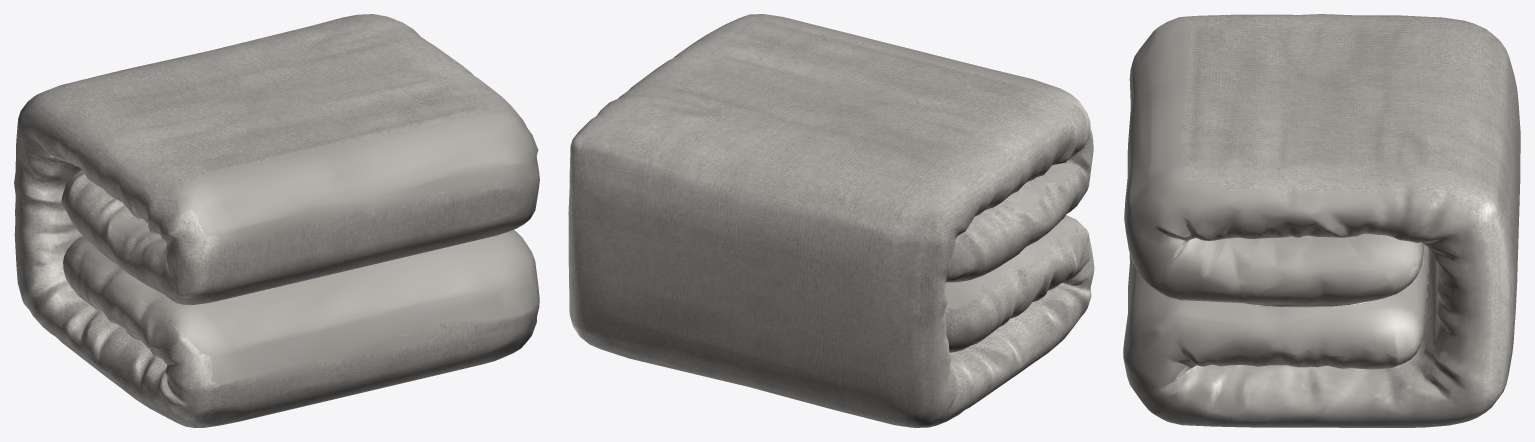
Rendered from raw_model.obj.
The picture shows the model from 3 angles, left to right: view 1: azimuth 30°, elevation 25°; view 2: azimuth 150°, elevation 25°; view 3: azimuth 270°, elevation 25°; orthographic projection. The views are drawn at different scales.
Parts seen in each view (by area): view 1: solid_001; view 2: solid_001; view 3: solid_001.
Part boxes in pixels (left/top/right/bottom): solid_001: left=14, top=14, right=539, bottom=427; solid_001: left=568, top=14, right=1094, bottom=427; solid_001: left=1123, top=14, right=1520, bottom=427.
Bounding box in the file's own units: 0.6053 × 0.3776 × 0.5306.
1 material, 1 textured.
